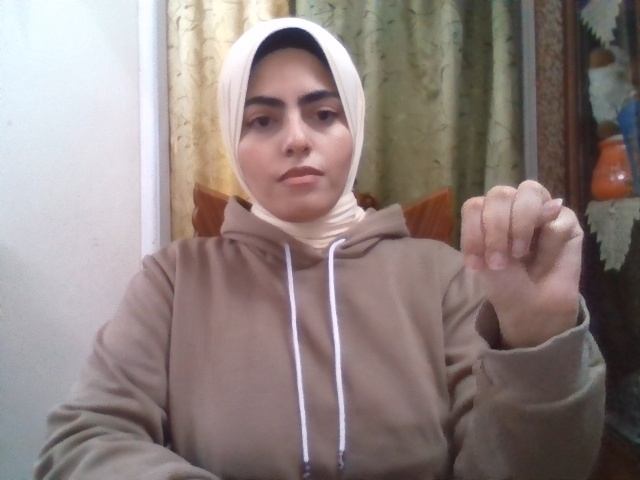M: (460, 180, 584, 318)
